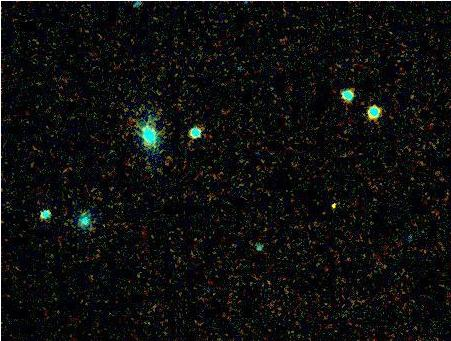star: (317, 189, 347, 219)
